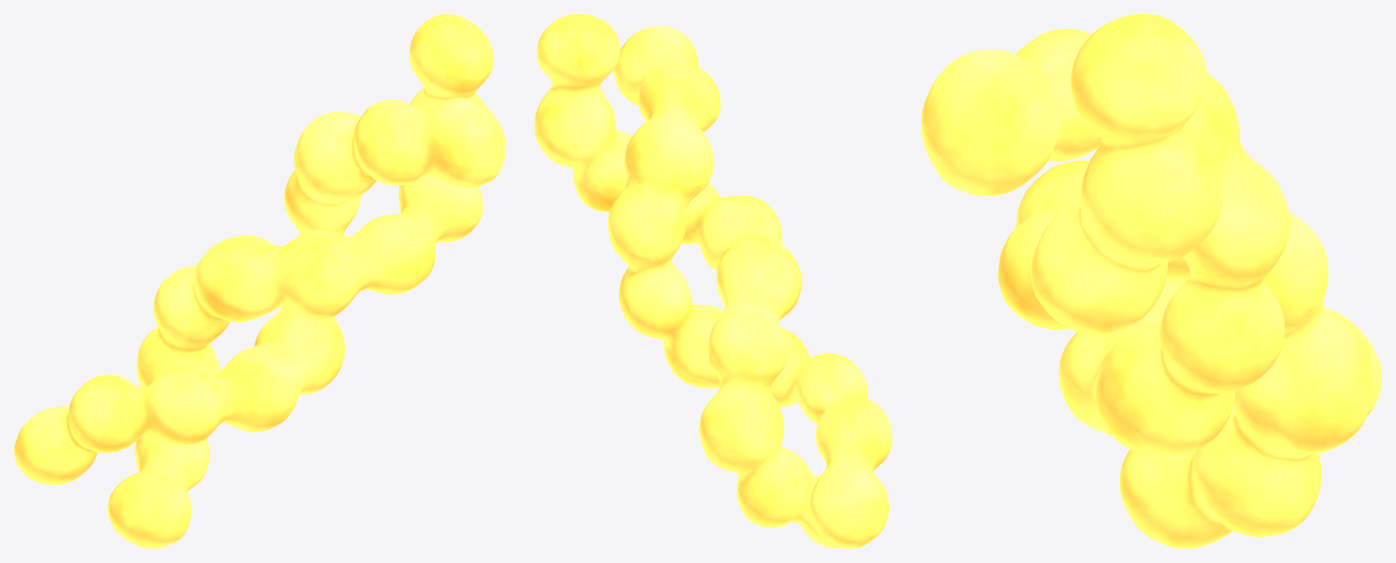
The model's file is virions-v2.fbx.
3 renders of one model, left to right at view 1: azimuth 30°, elevation 25°; view 2: azimuth 150°, elevation 25°; view 3: azimuth 270°, elevation 25°, orthographic. The views are drawn at different scales.
Parts seen in each view (by area): view 1: Virion_01_rod_1_strand_2; view 2: Virion_01_rod_1_strand_2; view 3: Virion_01_rod_1_strand_2.
Part boxes in pixels (x1,y1,x2,y2): Virion_01_rod_1_strand_2: [14, 14, 505, 548]; Virion_01_rod_1_strand_2: [534, 14, 892, 548]; Virion_01_rod_1_strand_2: [921, 14, 1381, 548].
Bounding box in the file's own units: 92.85 × 101 × 57.05.
Materials: 1 (1 with a texture image).
